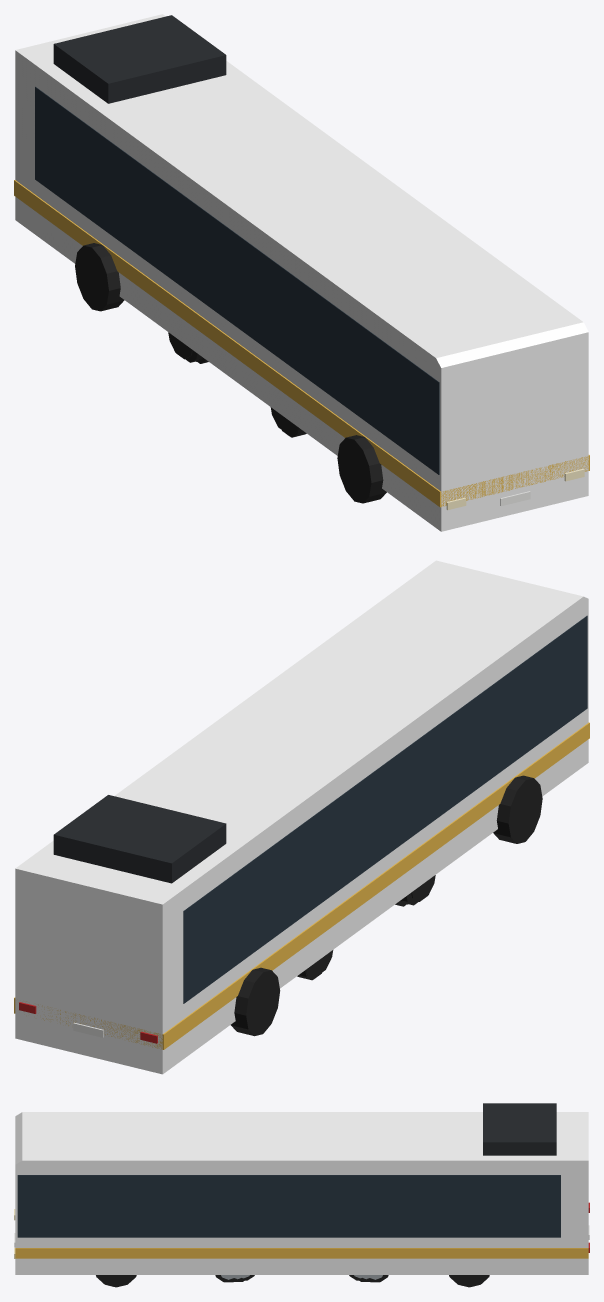
Rendered from cars.glb.
3 renders of one model, top to bottom at view 1: azimuth 30°, elevation 25°; view 2: azimuth 150°, elevation 25°; view 3: azimuth 270°, elevation 25°, orthographic. The views are drawn at different scales.
Parts seen in each view (by area): view 1: Bus; view 2: Bus; view 3: Bus, Van.
Boxes of the visible parts, left/top/right/bottom form: Bus: left=14, top=14, right=589, bottom=531; Bus: left=14, top=560, right=589, bottom=1074; Bus: left=14, top=1103, right=589, bottom=1287; Van: left=215, top=1275, right=388, bottom=1282.
Size of the model in its own units: 2.72 by 3.42 by 12.56.
